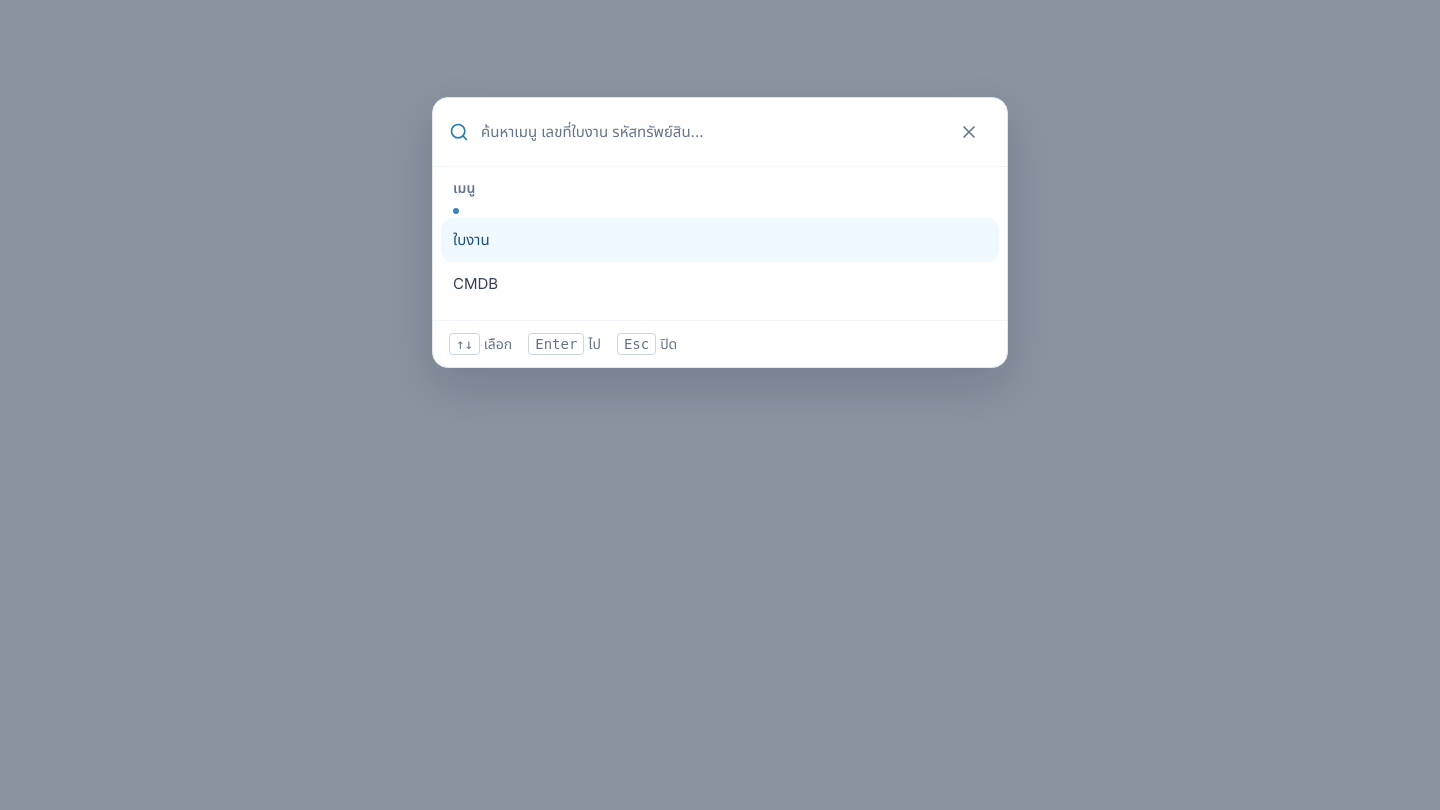
Test: CommandPalette › ไม่ยิงคำค้นที่สั้นกว่าเพดานของ api ออกไปให้ถูกปฏิเสธเปล่า ๆ
This screenshot has width=1440, height=810.
Type "T" into the field named "คำค้นหา" at (708, 132), box [481, 110, 935, 154]
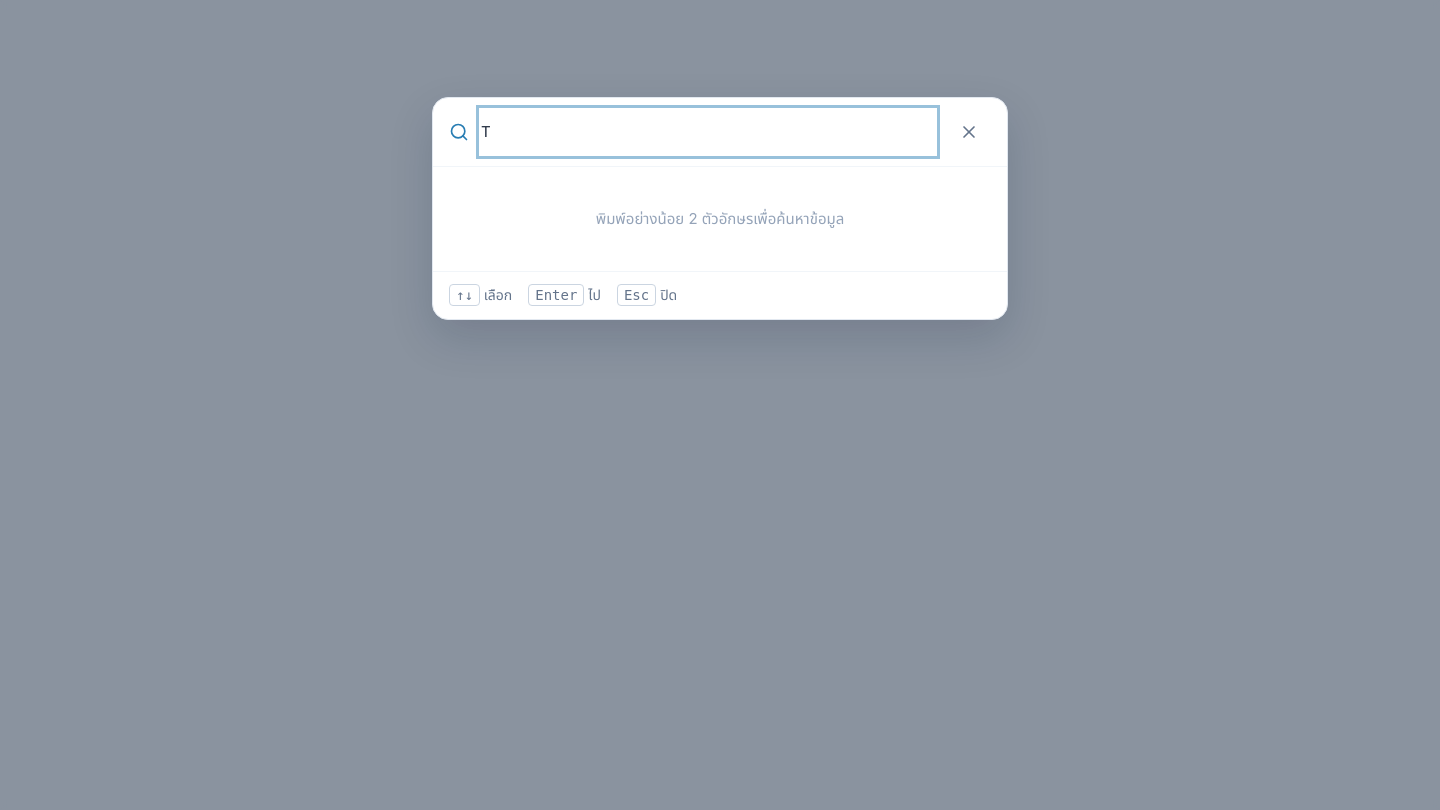
Now the text "พิมพ์อย่างน้อย 2 ตัวอักษรเพื่อค้นหาข้อมูล" is shown, box [596, 209, 844, 228]
